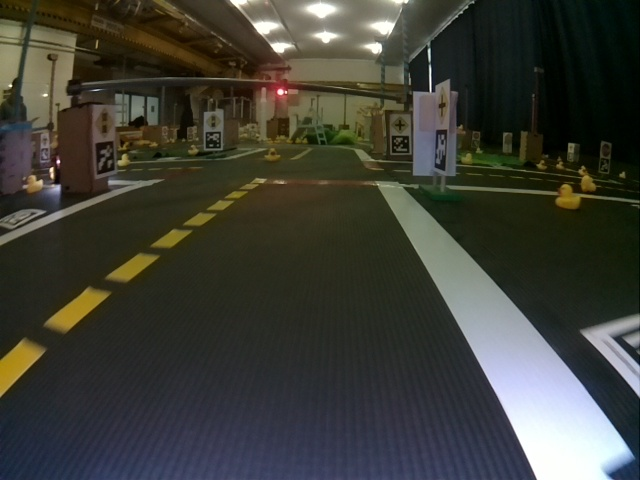Duckie: (555, 183, 580, 209), (26, 175, 43, 193), (581, 175, 595, 191), (264, 148, 280, 161), (118, 153, 130, 166), (461, 154, 472, 165), (536, 160, 547, 171), (188, 145, 198, 155), (556, 161, 565, 170)
Intersection sign: (437, 86, 448, 124), (391, 116, 409, 134)
QR code: (2, 209, 46, 229), (95, 141, 116, 174), (434, 130, 447, 172), (391, 135, 410, 153), (206, 132, 221, 148)
Signal sign: (94, 108, 113, 138), (206, 113, 222, 129)
Traffic light: (276, 86, 287, 96)
